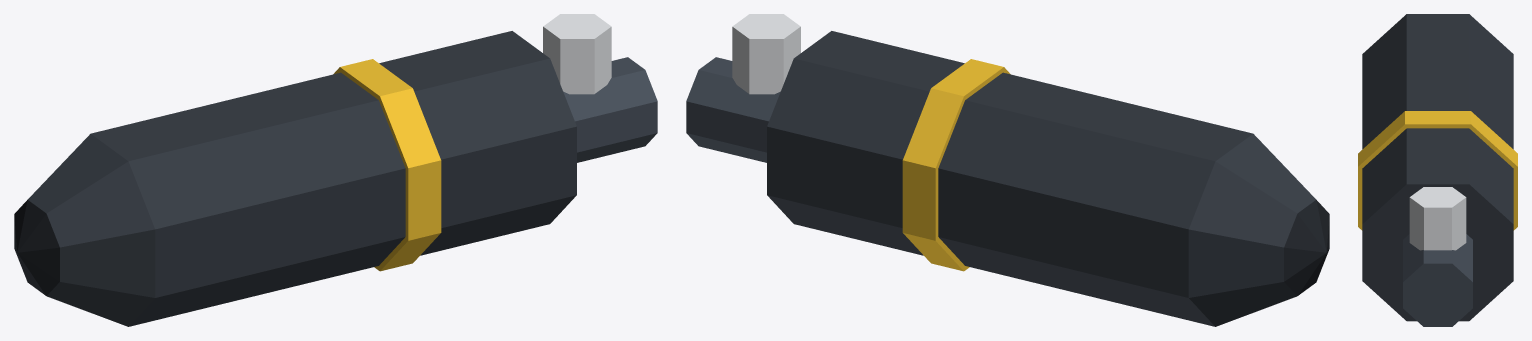
File: tank_hpa_small.glb
The picture shows the model from 3 angles, left to right: view 1: azimuth 30°, elevation 25°; view 2: azimuth 150°, elevation 25°; view 3: azimuth 270°, elevation 25°; orthographic projection. The views are drawn at different scales.
Visible parts, largest first — view 1: tank_hpa_small; view 2: tank_hpa_small; view 3: tank_hpa_small.
Part boxes in pixels (box(x1,y1,x2,y2)): tank_hpa_small: box(14, 14, 657, 326); tank_hpa_small: box(686, 14, 1329, 326); tank_hpa_small: box(1358, 14, 1517, 326).
Bounding box in the file's own units: 0.188 × 0.0514 × 0.0508.
